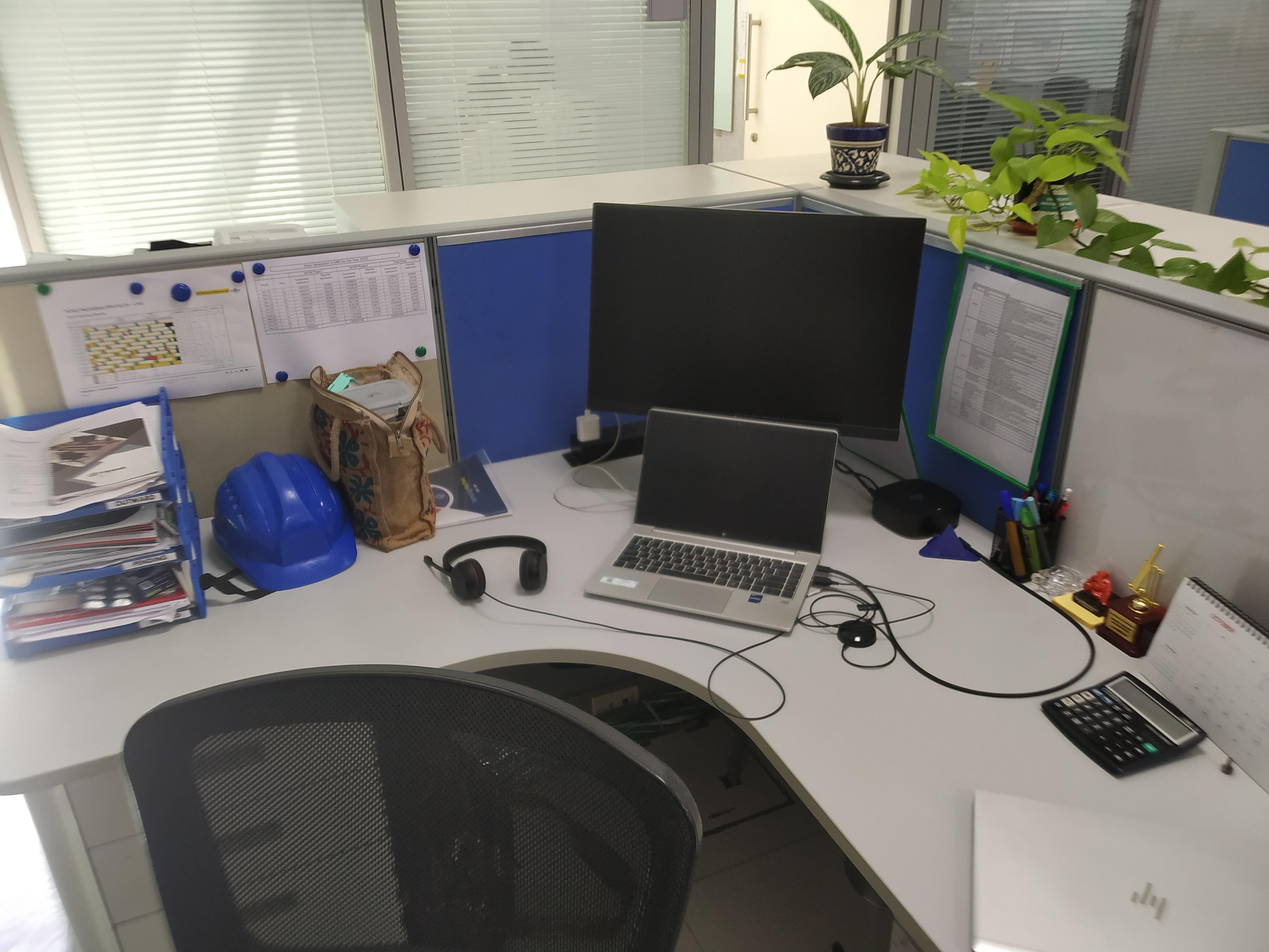book: (433, 445, 517, 532)
calender: (1136, 566, 1269, 800)
desktop: (581, 193, 934, 448)
filetray: (1, 383, 212, 668)
headphone: (421, 531, 557, 605)
laptop: (578, 403, 848, 643)
page: (920, 249, 1089, 500), (34, 257, 269, 407), (238, 236, 441, 389)
vase: (818, 119, 895, 193)
